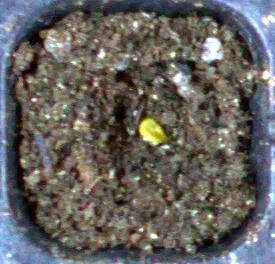chilli seed: (138, 118, 165, 143)
